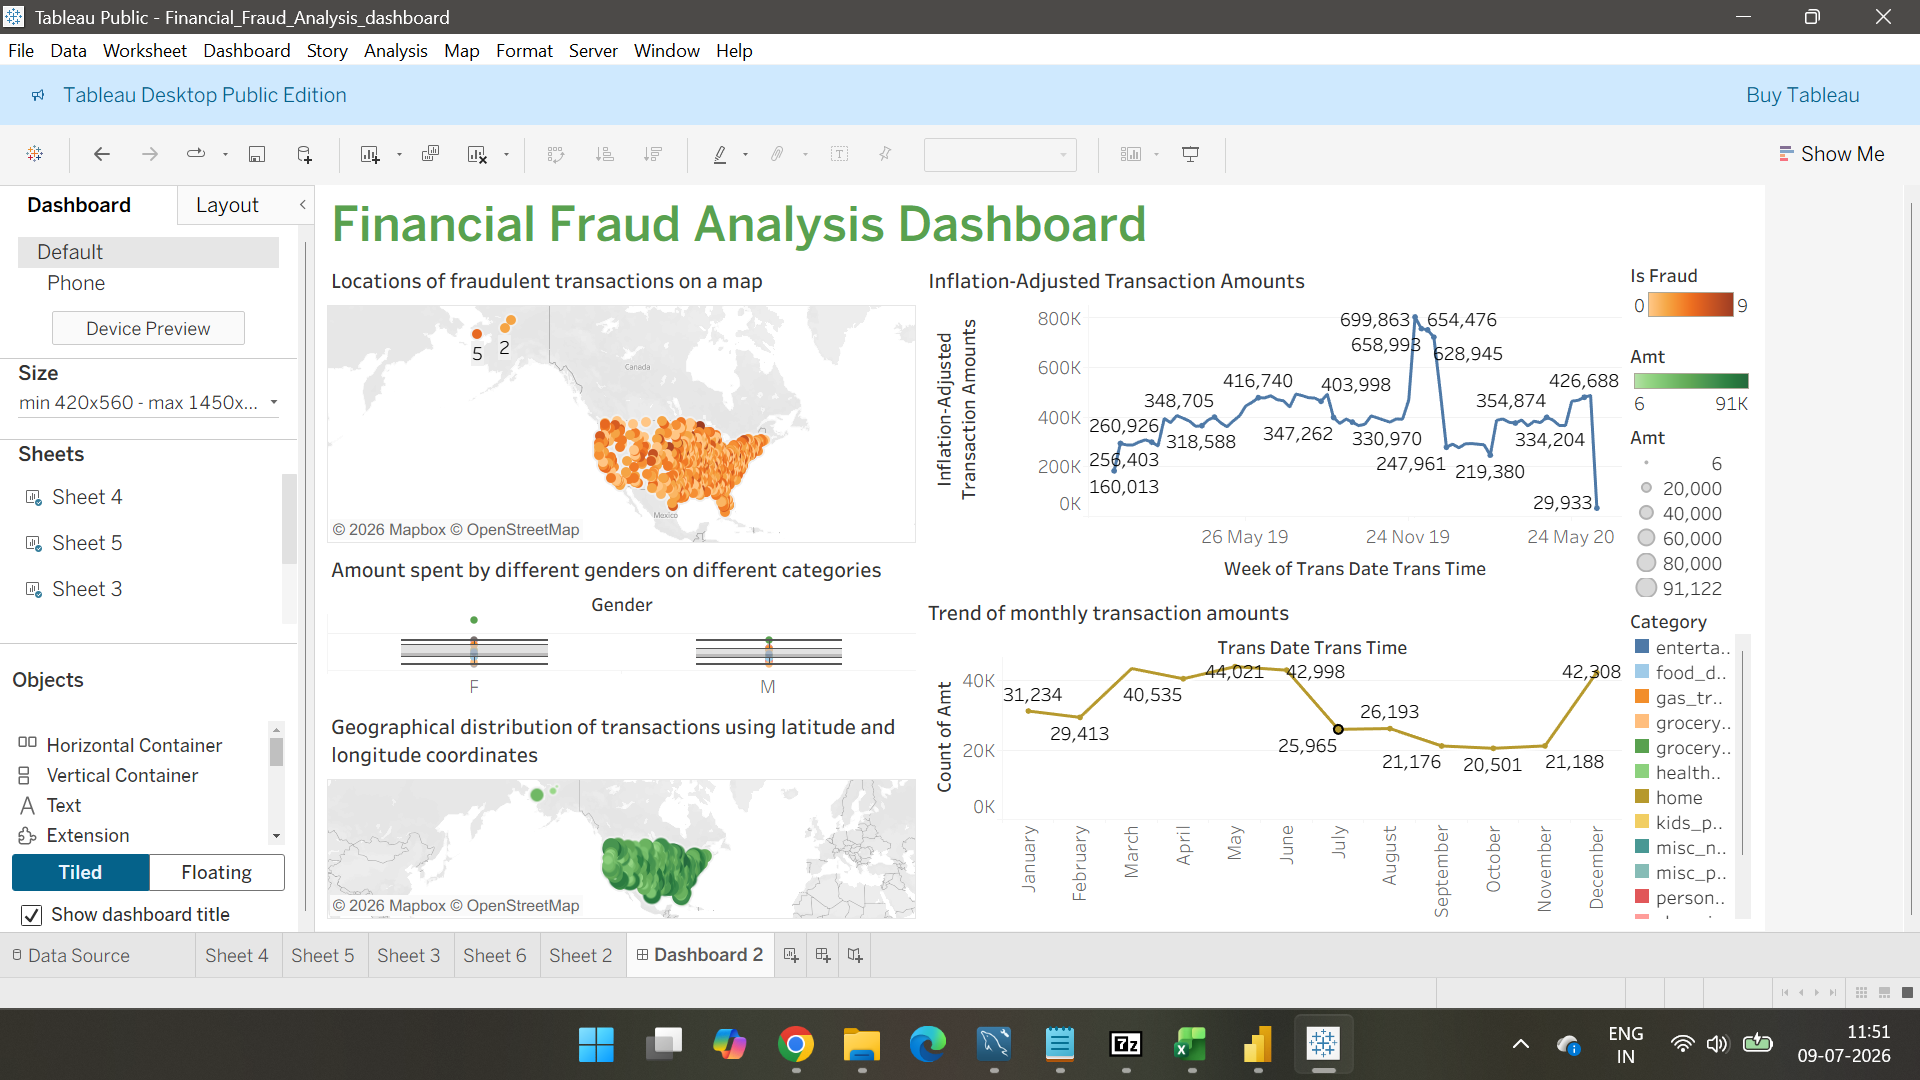

The dashboard page shown, as its layout file describes it:
{"tool":"tableau","page":{"name":"Dashboard 2","canvas":[1000,1000],"units":"permille","ordinal":0},"visuals":[{"type":"title","box":[5.5,10.7,989,88.4]},{"type":"worksheet","title":"Sheet 4","mark":"Automatic","rows":["lat"],"cols":["long"],"box":[5.5,99.1,411.7,387.2]},{"type":"worksheet","title":"Sheet 6","mark":"Automatic","rows":["Calculation_0887070821400577"],"cols":["trans_date_trans_time"],"box":[417.2,99.1,486.9,445.1]},{"type":"legend","title":"Sheet 4","param":"[federated.1unfc1e0xnar6p11jduf21a3c2po].[sum:is_fraud:qk]","box":[904.1,99.1,90.3,108.4]},{"type":"legend","title":"Sheet 3","param":"[federated.1unfc1e0xnar6p11jduf21a3c2po].[sum:amt:qk]","box":[904.1,207.5,90.3,108.4]},{"type":"legend","title":"Sheet 3","param":"[federated.1unfc1e0xnar6p11jduf21a3c2po].[sum:amt:qk]","box":[904.1,315.9,90.3,246.3]},{"type":"worksheet","title":"Sheet 2","mark":"Circle","rows":["amt"],"cols":["gender"],"box":[5.5,486.3,411.7,209.5]},{"type":"worksheet","title":"Sheet 5","mark":"Automatic","rows":["amt"],"cols":["trans_date_trans_time"],"box":[417.2,544.2,486.9,445.1]},{"type":"legend","title":"Sheet 2","param":"[federated.1unfc1e0xnar6p11jduf21a3c2po].[none:category:nk]","box":[904.1,562.2,90.3,427.1]},{"type":"worksheet","title":"Sheet 3","mark":"Automatic","rows":["lat"],"cols":["long"],"box":[5.5,695.8,411.7,293.5]}]}

Visuals, with their boxes on the dashboard's canvas, which has no fixed pixel size, in thousandths of its width and height (x1, y1, x2, y2). These are canvas units, not pixel positions in the 1920x1080 screenshot, which may show the page scaled, cropped or inside an application window:
title: (x1=6, y1=11, x2=994, y2=99)
"Sheet 4" worksheet: (x1=6, y1=99, x2=417, y2=486)
"Sheet 6" worksheet: (x1=417, y1=99, x2=904, y2=544)
"Sheet 4" legend: (x1=904, y1=99, x2=994, y2=208)
"Sheet 3" legend: (x1=904, y1=208, x2=994, y2=316)
"Sheet 3" legend: (x1=904, y1=316, x2=994, y2=562)
"Sheet 2" worksheet (Circle marks): (x1=6, y1=486, x2=417, y2=696)
"Sheet 5" worksheet: (x1=417, y1=544, x2=904, y2=989)
"Sheet 2" legend: (x1=904, y1=562, x2=994, y2=989)
"Sheet 3" worksheet: (x1=6, y1=696, x2=417, y2=989)
